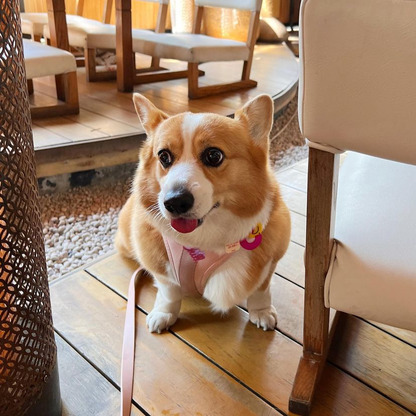Corgi: (115, 73, 295, 339)
